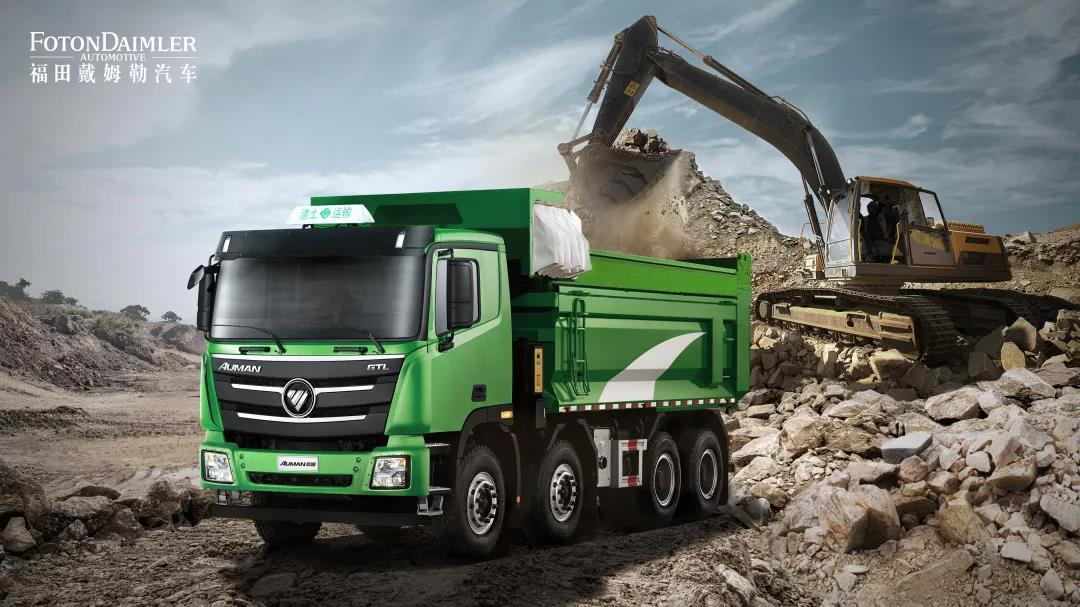truck: (177, 175, 761, 567)
